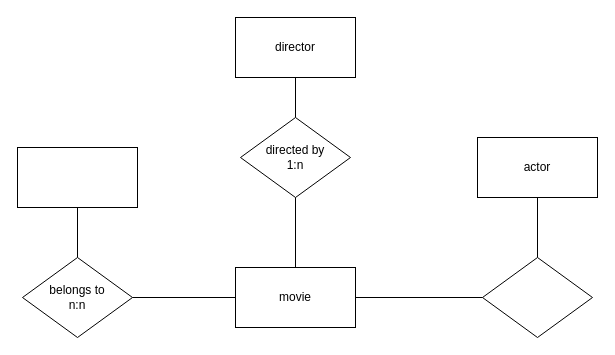
This 615x355 diagram has some shape labels left out. Here are the shapes that lost their labels. From the top down, the centre of each, then its label:
At [77,177]: "genre".
At [537,297]: "acts in n:n".
